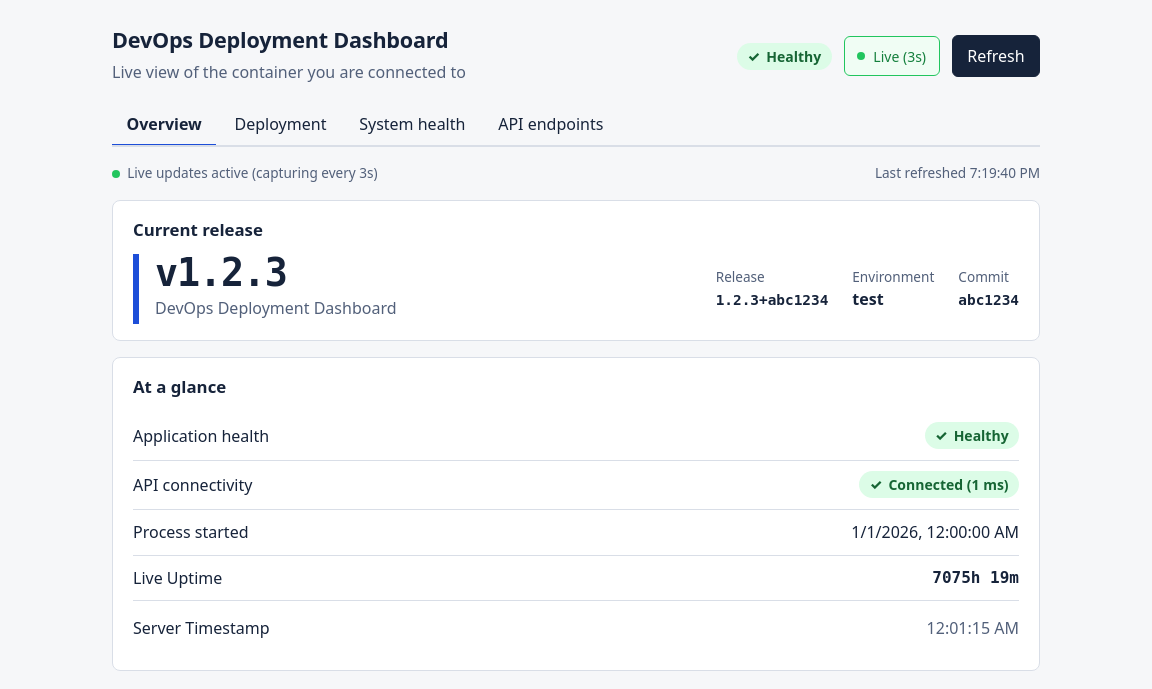
Test: App › marks missing build metadata as Unavailable instead of inventing it
Check: the text "v1.2.3" is shown, box [155,250,287,295]
Click the button "Deployment". click: x=280, y=126
box: [220,104,341,147]
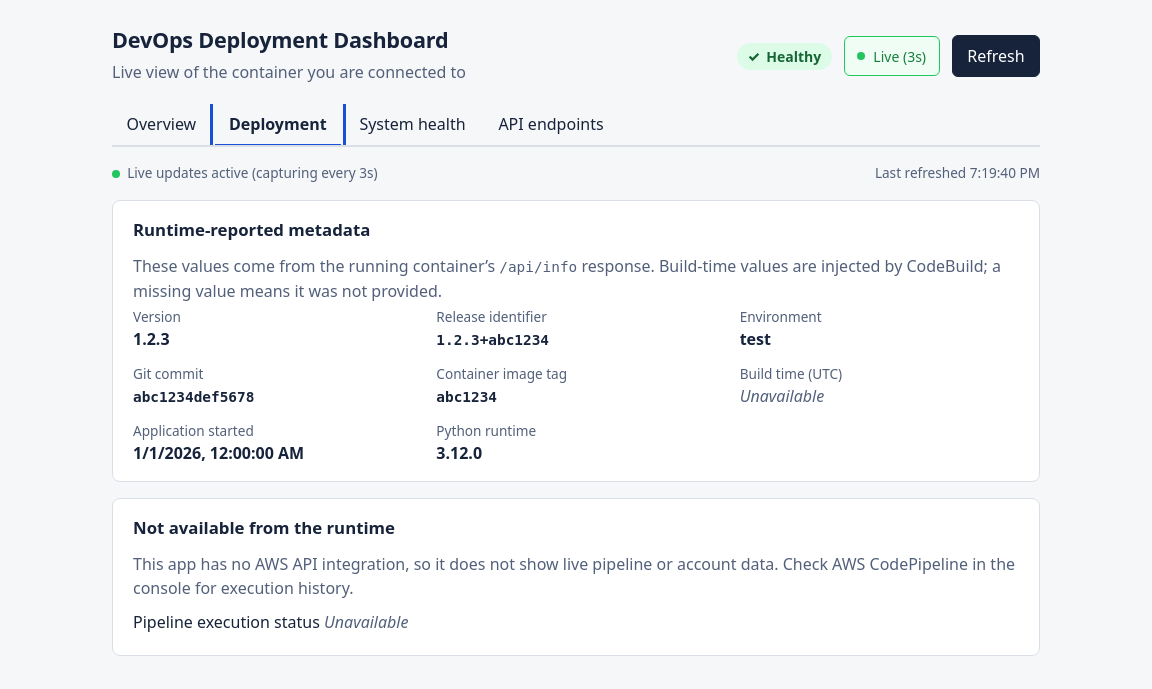
Check: the list item "Pipeline execution status" is shown, box [133,611,320,633]
